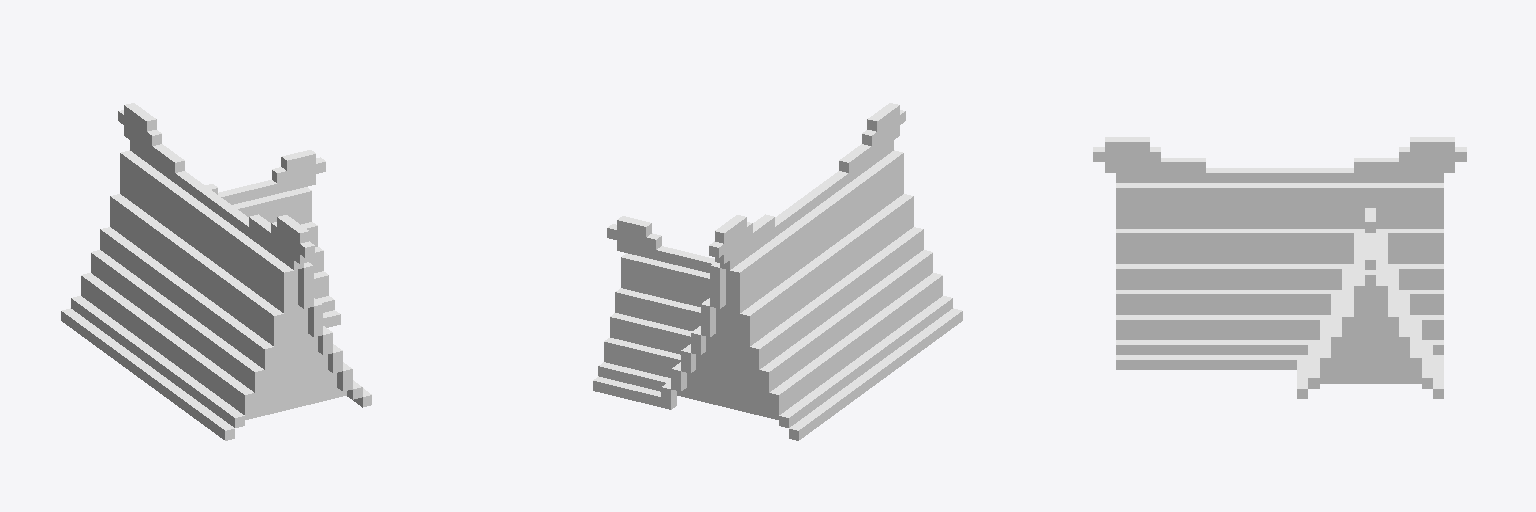
File: toit_ville_riche_2.obj
The picture shows the model from 3 angles: view 1: azimuth 30°, elevation 25°; view 2: azimuth 150°, elevation 25°; view 3: azimuth 270°, elevation 25°; orthographic projection.
Parts seen in each view (by area): view 1: toit_ville_riche_2; view 2: toit_ville_riche_2; view 3: toit_ville_riche_2.
Boxes of the visible parts, x1=… form: toit_ville_riche_2: x1=61, y1=103, x2=371, y2=440; toit_ville_riche_2: x1=593, y1=103, x2=962, y2=440; toit_ville_riche_2: x1=1093, y1=137, x2=1466, y2=398.
Bounding box in the file's own units: 23 × 19 × 33.